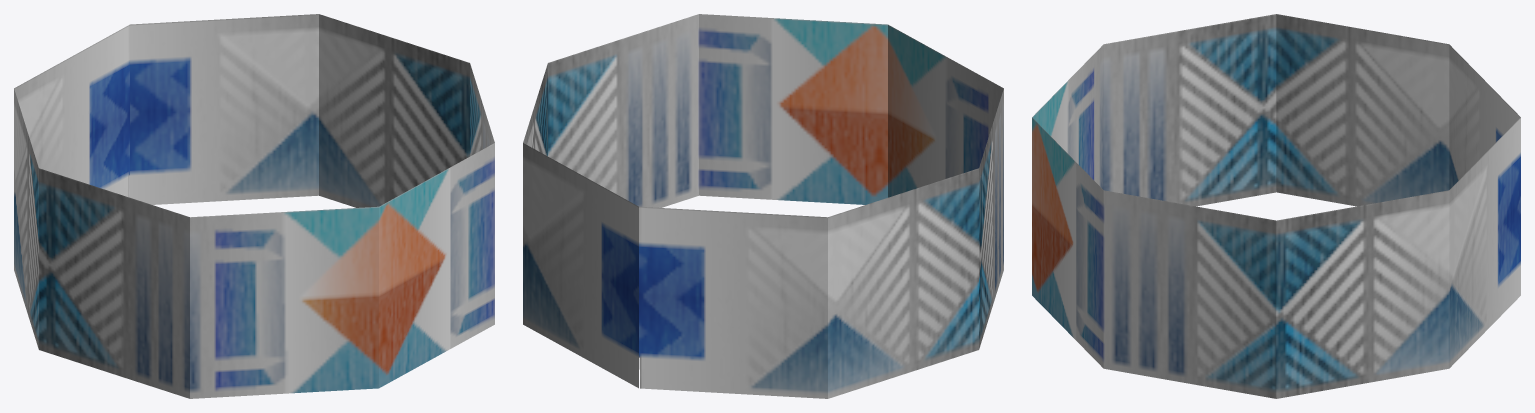
Rendered from taste_4.obj.
3 views of the same model, side by side, from view 1: azimuth 30°, elevation 25°; view 2: azimuth 150°, elevation 25°; view 3: azimuth 270°, elevation 25° (orthographic).
Visible parts, largest first — view 1: wheel_c; view 2: wheel_c; view 3: wheel_c.
Boxes of the visible parts, left/top/right/bottom form: wheel_c: left=14, top=14, right=494, bottom=398; wheel_c: left=523, top=14, right=1003, bottom=398; wheel_c: left=1032, top=14, right=1520, bottom=398.
Bounding box in the file's own units: 101 × 40.73 × 101.
Materials: 1 (1 with a texture image).
